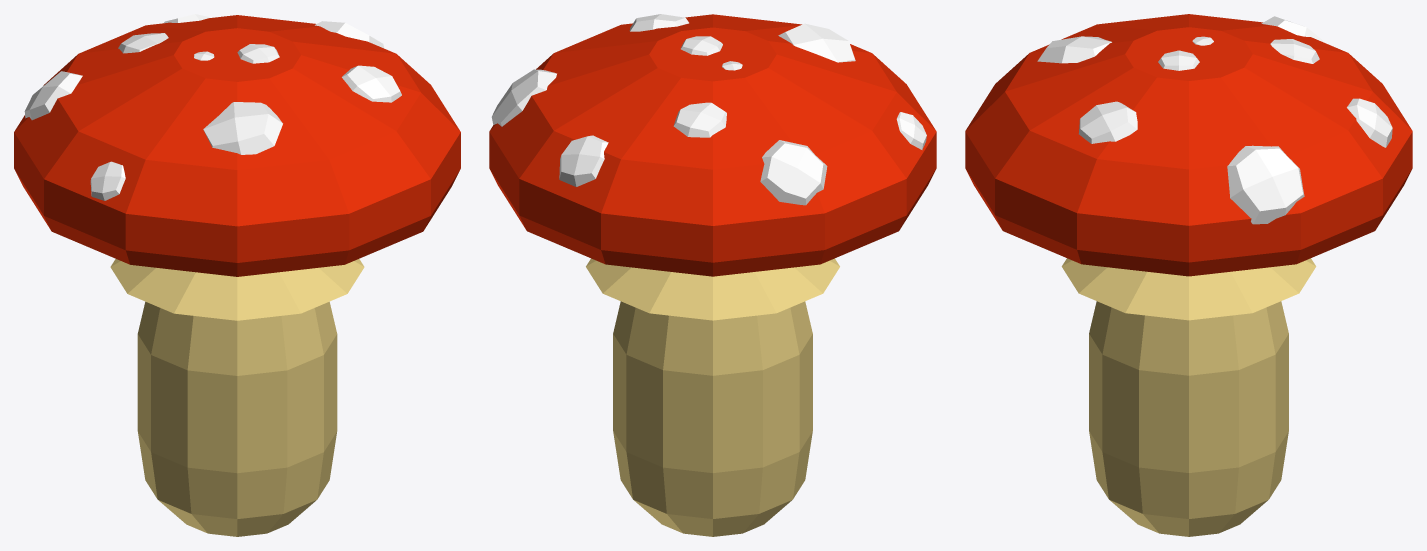
The model's file is mushroom_low-_poly.glb.
The picture shows the model from 3 angles, left to right: view 1: azimuth 30°, elevation 25°; view 2: azimuth 150°, elevation 25°; view 3: azimuth 270°, elevation 25°; orthographic projection.
Visible parts, largest first — view 1: Top, Base, Point, Point.003, Point.004, Point.008, Point.005, Point.002, Point.006; view 2: Top, Base, Point.004, Point.001, Point, Point.006, Point.005, Point.003, Point.008, Point.002; view 3: Top, Base, Point.006, Point.003, Point, Point.001, Point.005, Point.002.
Part boxes in pixels (x1,y1,x2,y2): Top: [14, 15, 460, 276]; Base: [110, 259, 364, 536]; Point: [203, 102, 282, 154]; Point.003: [342, 65, 401, 102]; Point.004: [24, 71, 82, 120]; Point.008: [90, 161, 125, 200]; Point.005: [118, 33, 168, 53]; Point.002: [237, 44, 279, 63]; Point.006: [315, 21, 384, 48]; Top: [489, 14, 936, 276]; Base: [586, 258, 839, 536]; Point.004: [760, 140, 827, 205]; Point.001: [559, 135, 608, 186]; Point: [778, 23, 855, 62]; Point.006: [491, 69, 556, 126]; Point.005: [673, 102, 726, 137]; Point.003: [629, 14, 688, 31]; Point.008: [896, 112, 926, 149]; Point.002: [680, 36, 722, 55]; Top: [965, 14, 1412, 276]; Base: [1061, 258, 1316, 536]; Point.006: [1227, 145, 1304, 224]; Point.003: [1078, 101, 1137, 143]; Point: [1037, 36, 1111, 63]; Point.001: [1347, 98, 1392, 147]; Point.005: [1270, 39, 1319, 63]; Point.002: [1158, 50, 1199, 70].
Bounding box in the file's own units: 4.48 × 5.13 × 4.48.
